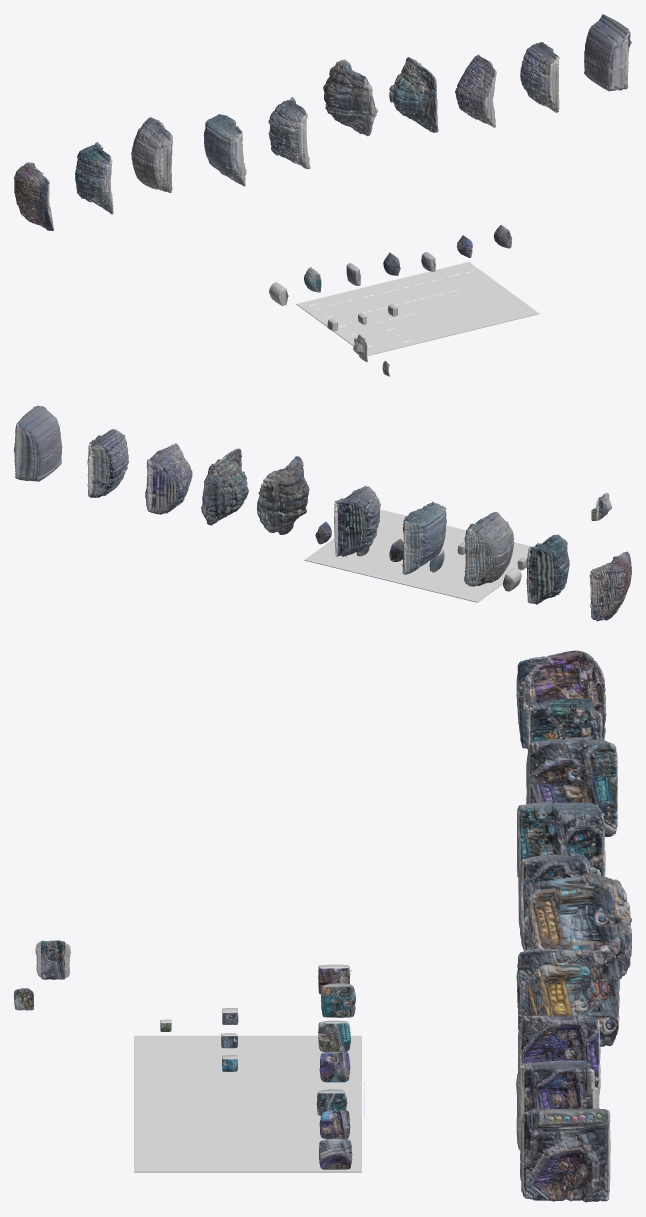
Rendered from lunar-city-generated-assets-board.glb.
3 views of the same model, one above another, from view 1: azimuth 30°, elevation 25°; view 2: azimuth 150°, elevation 25°; view 3: azimuth 270°, elevation 25° (orthographic). The views are drawn at different scales.
Visible parts, largest first — view 1: lunar_city_generated_asset_review_floor, building-archive_geometry_0, building-release-gatehouse_geometry_0, building-triage-clinic_geometry_0, building-arts-studio_geometry_0, building-engineering_geometry_0, building-operations-depot_geometry_0, building-review-office_geometry_0, building-council-hall_geometry_0, building-research-lab_geometry_0, building-library_geometry_0; view 2: lunar_city_generated_asset_review_floor, building-archive_geometry_0, building-arts-studio_geometry_0, building-release-gatehouse_geometry_0, building-operations-depot_geometry_0, building-council-hall_geometry_0, building-triage-clinic_geometry_0, building-engineering_geometry_0, building-research-lab_geometry_0, building-review-office_geometry_0, building-library_geometry_0, leader-owl-archivist_geometry_0 (+1 smaller); view 3: lunar_city_generated_asset_review_floor, building-archive_geometry_0, building-release-gatehouse_geometry_0, building-triage-clinic_geometry_0, building-arts-studio_geometry_0, building-engineering_geometry_0, building-library_geometry_0, building-review-office_geometry_0, building-council-hall_geometry_0, building-research-lab_geometry_0, building-operations-depot_geometry_0, vehicle-bus_geometry_0 (+5 smaller).
Boxes of the visible parts, bbox=[...] form: lunar_city_generated_asset_review_floor: bbox=[296, 262, 539, 355]; building-archive_geometry_0: bbox=[584, 14, 631, 91]; building-release-gatehouse_geometry_0: bbox=[323, 59, 377, 136]; building-triage-clinic_geometry_0: bbox=[389, 57, 438, 132]; building-arts-studio_geometry_0: bbox=[131, 117, 172, 192]; building-engineering_geometry_0: bbox=[203, 114, 246, 186]; building-operations-depot_geometry_0: bbox=[268, 97, 310, 169]; building-review-office_geometry_0: bbox=[520, 42, 559, 112]; building-council-hall_geometry_0: bbox=[455, 54, 496, 127]; building-research-lab_geometry_0: bbox=[75, 142, 113, 214]; building-library_geometry_0: bbox=[14, 162, 53, 230]; lunar_city_generated_asset_review_floor: bbox=[304, 509, 531, 602]; building-archive_geometry_0: bbox=[14, 405, 62, 481]; building-arts-studio_geometry_0: bbox=[464, 512, 514, 586]; building-release-gatehouse_geometry_0: bbox=[257, 456, 309, 532]; building-operations-depot_geometry_0: bbox=[334, 485, 380, 556]; building-council-hall_geometry_0: bbox=[145, 443, 192, 514]; building-triage-clinic_geometry_0: bbox=[201, 448, 248, 525]; building-engineering_geometry_0: bbox=[402, 501, 446, 574]; building-research-lab_geometry_0: bbox=[526, 534, 569, 604]; building-review-office_geometry_0: bbox=[87, 429, 128, 497]; building-library_geometry_0: bbox=[589, 551, 631, 621]; leader-owl-archivist_geometry_0: bbox=[503, 567, 521, 591]; lunar_city_generated_asset_review_floor: bbox=[134, 1035, 361, 1172]; building-archive_geometry_0: bbox=[520, 1108, 610, 1202]; building-release-gatehouse_geometry_0: bbox=[528, 873, 631, 979]; building-triage-clinic_geometry_0: bbox=[516, 948, 619, 1046]; building-arts-studio_geometry_0: bbox=[526, 737, 617, 836]; building-engineering_geometry_0: bbox=[517, 801, 605, 882]; building-library_geometry_0: bbox=[516, 650, 606, 748]; building-review-office_geometry_0: bbox=[516, 1060, 599, 1150]; building-council-hall_geometry_0: bbox=[518, 1015, 600, 1097]; building-research-lab_geometry_0: bbox=[526, 698, 602, 750]; building-operations-depot_geometry_0: bbox=[518, 853, 600, 950]; vehicle-bus_geometry_0: bbox=[35, 940, 70, 979].
Size of the model in its own units: 84.02 by 20.98 by 46.08.
